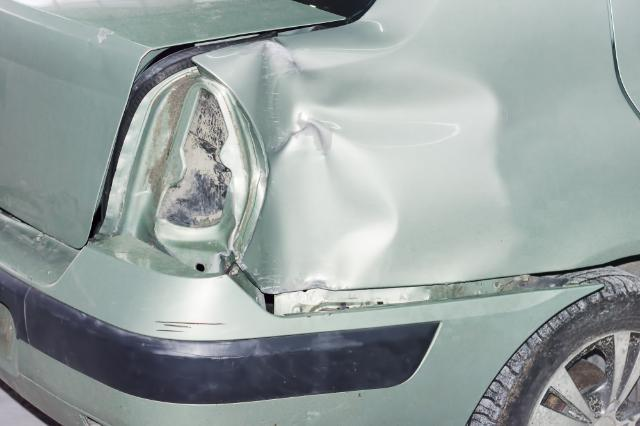dent: (240, 45, 551, 296)
no part: (93, 48, 264, 275)
scratch: (155, 317, 230, 335)
